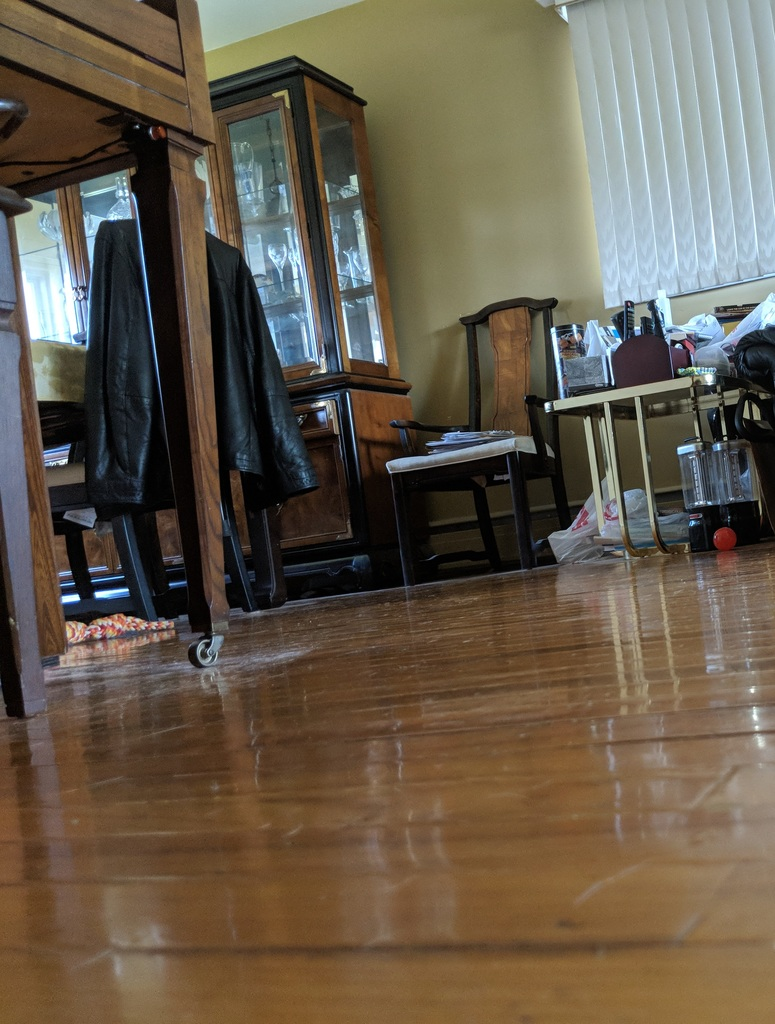ball: (711, 525, 736, 552)
